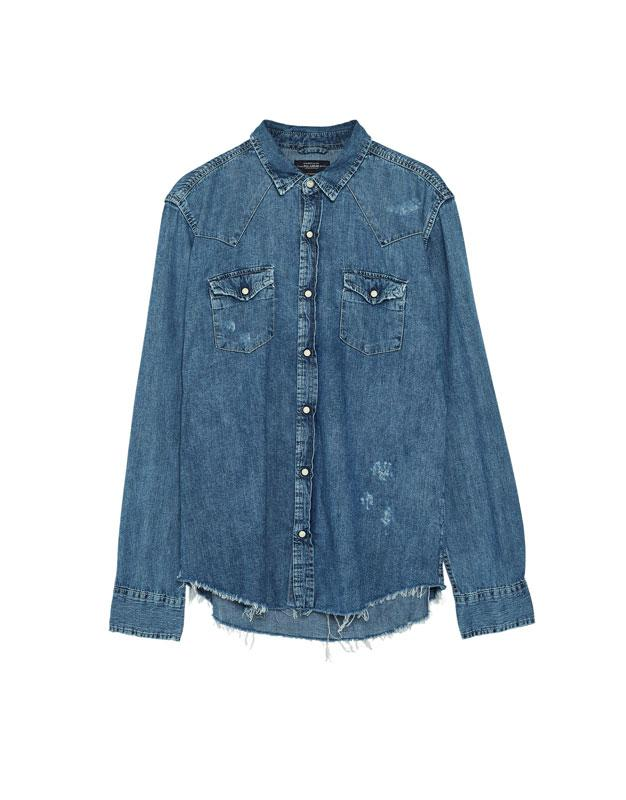teeshirt: (91, 114, 551, 646)
